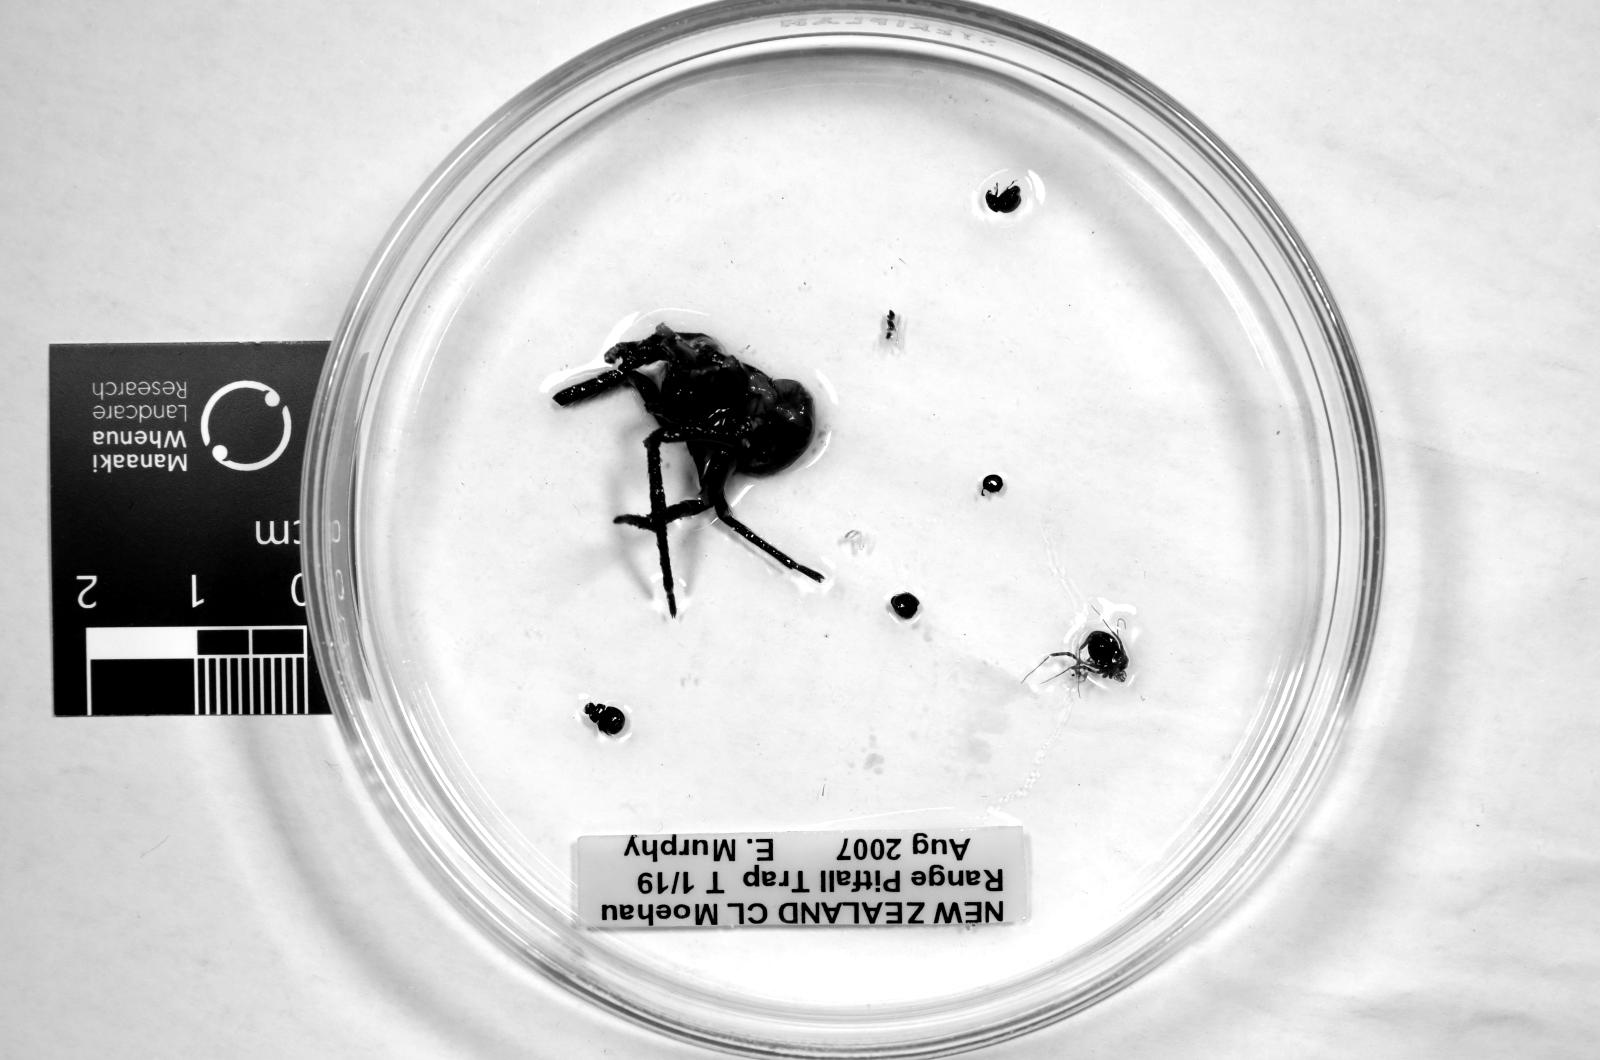araneae: (553, 323, 822, 615)
coleoptera: (584, 702, 626, 736), (984, 183, 1022, 214)
opiliones: (1084, 631, 1128, 680)
